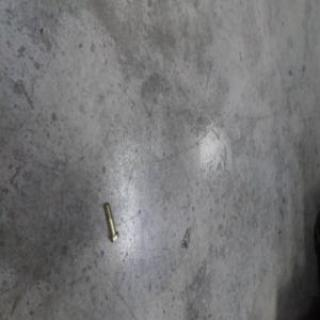Bolttrack_idkeyframe: (102, 200, 120, 243)
